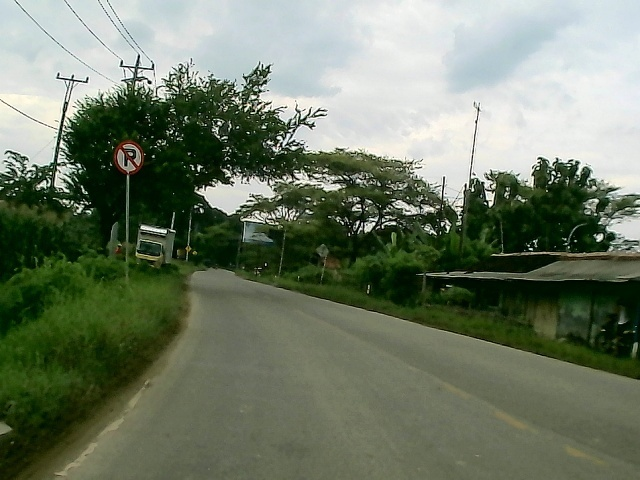Dilarang parkir: (112, 139, 147, 176)
